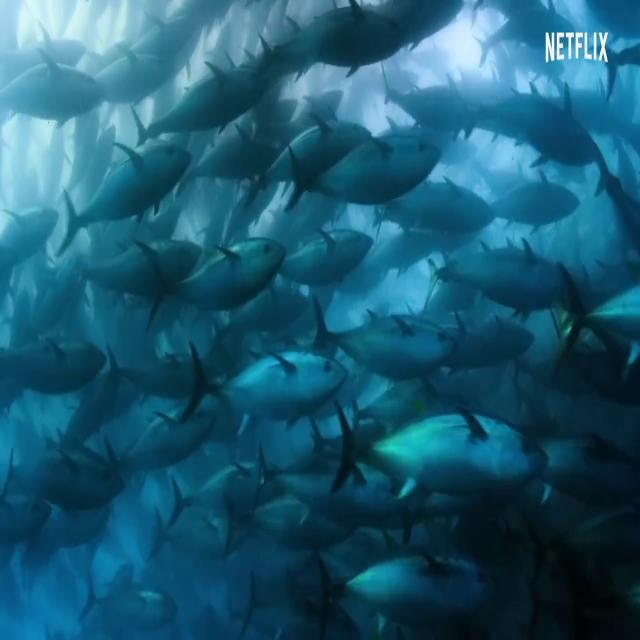fish: (326, 399, 552, 522), (242, 414, 400, 546), (141, 206, 289, 339), (315, 539, 497, 640), (455, 71, 599, 197), (424, 230, 581, 333), (58, 141, 193, 257), (253, 0, 401, 103), (75, 216, 201, 334), (282, 126, 439, 220), (128, 52, 266, 158), (307, 295, 452, 394), (178, 338, 342, 425), (242, 109, 373, 211), (98, 0, 195, 108), (163, 443, 262, 548), (537, 416, 640, 514), (0, 440, 132, 514), (378, 176, 488, 264), (0, 318, 112, 403), (275, 208, 371, 299), (2, 48, 100, 128), (0, 190, 76, 292), (376, 56, 464, 138), (78, 569, 178, 632), (0, 492, 53, 567)
